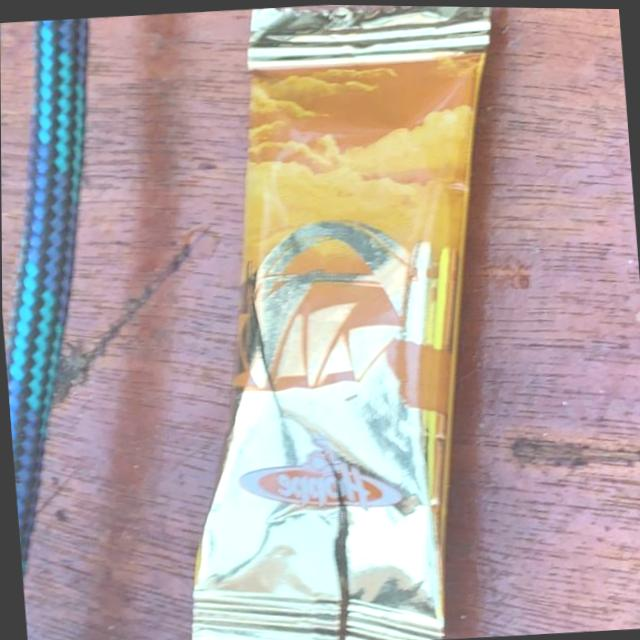Plastic: (135, 2, 547, 640)
